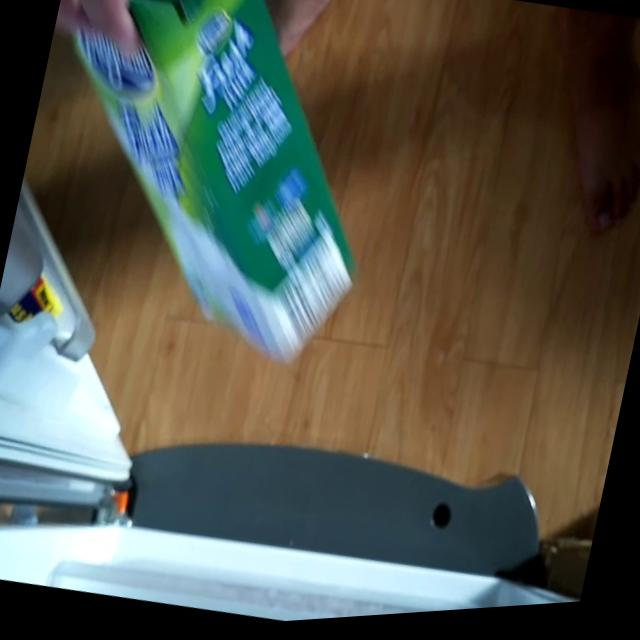milk: (0, 0, 419, 395)
